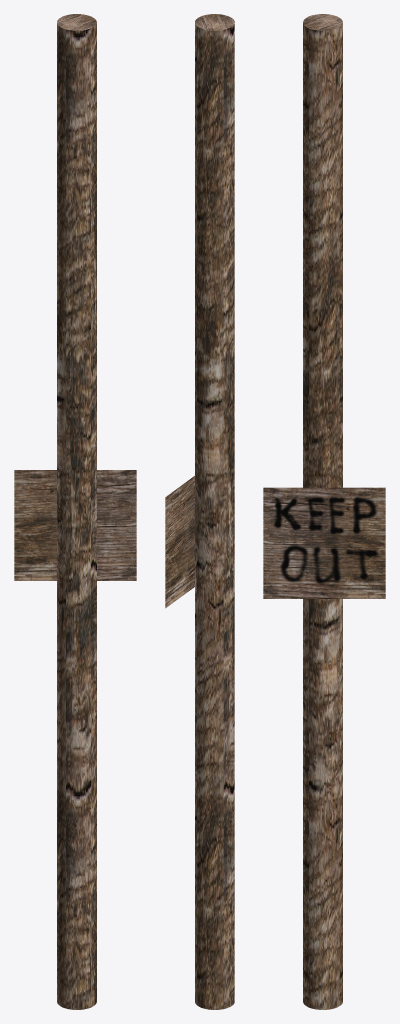
Rendered from pillar.fbx.
The picture shows the model from 3 angles, left to right: view 1: azimuth 90°, elevation 25°; view 2: azimuth 150°, elevation 25°; view 3: azimuth 270°, elevation 25°; orthographic projection.
Visible parts, largest first — view 1: pillar_LOD0; view 2: pillar_LOD0; view 3: pillar_LOD0.
Boxes of the visible parts, box(x1,y1,x2,y2) form: pillar_LOD0: box(14, 14, 136, 1009); pillar_LOD0: box(165, 14, 234, 1009); pillar_LOD0: box(263, 14, 385, 1009).
Size of what is drawn, in the model's own units: 19.24 by 506 by 57.39.
